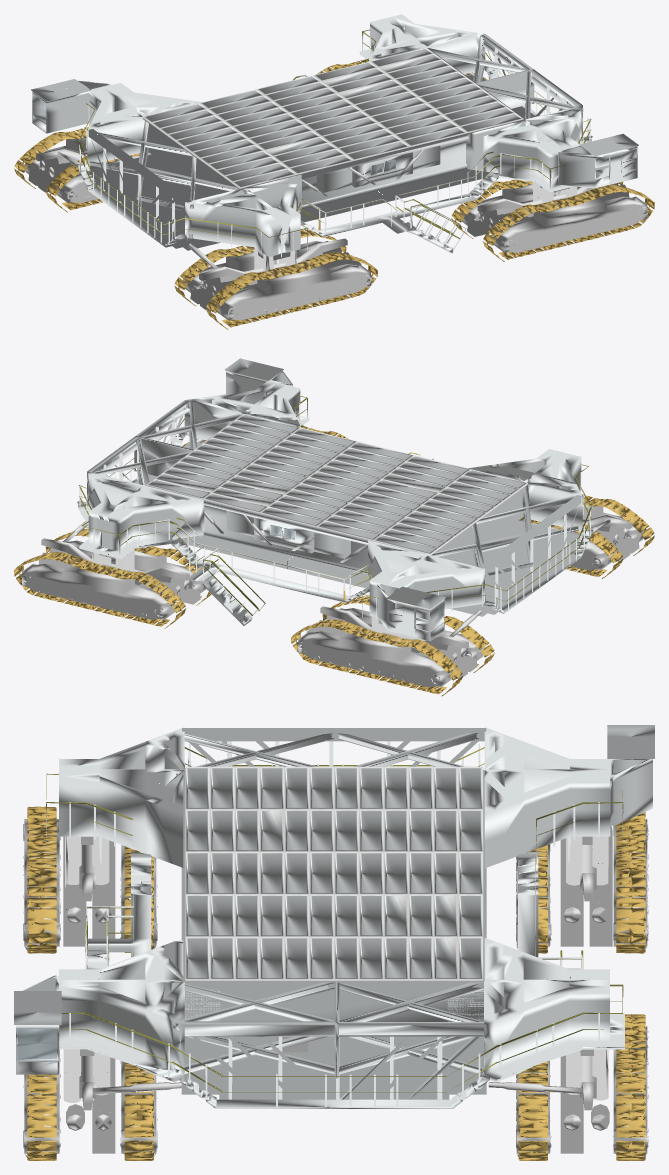
Rendered from crawler.glb.
The picture shows the model from 3 angles, top to bottom: view 1: azimuth 30°, elevation 25°; view 2: azimuth 150°, elevation 25°; view 3: azimuth 270°, elevation 25°; orthographic projection. The views are drawn at different scales.
Visible parts, largest first — view 1: polySurface1; view 2: polySurface1; view 3: polySurface1.
Part boxes in pixels (left/top/right/bottom): polySurface1: left=14, top=14, right=654, bottom=329; polySurface1: left=14, top=358, right=654, bottom=696; polySurface1: left=14, top=725, right=654, bottom=1160.
Bounding box in the file's own units: 40 × 7.72 × 32.81.
2 materials, 2 textured.
